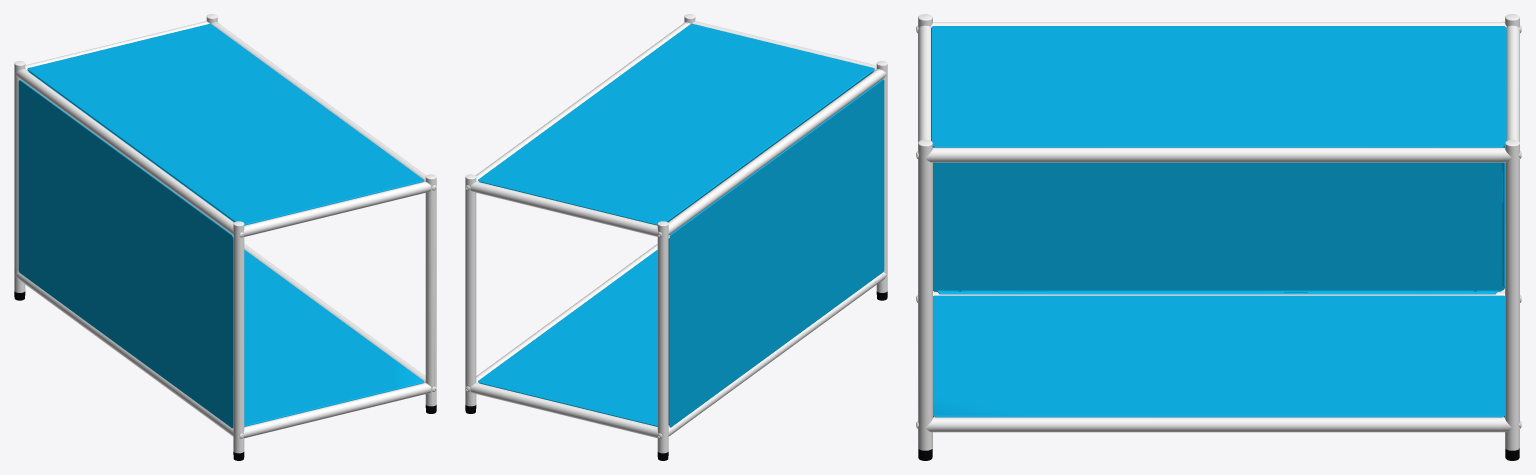
Rendered from 80x40x40-1-2-blue_optimized_optimized.glb.
3 renders of one model, left to right at view 1: azimuth 30°, elevation 25°; view 2: azimuth 150°, elevation 25°; view 3: azimuth 270°, elevation 25°, orthographic. The views are drawn at different scales.
Visible parts, largest first — view 1: 直角鐵板-80x40-5 - 零件, new-上塞-1 - 零件; view 2: 直角鐵板-80x40-5 - 零件, new-上塞-1 - 零件; view 3: 直角鐵板-80x40-5 - 零件, new-上塞-1 - 零件.
Part boxes in pixels (x1,y1,x2,y2): 直角鐵板-80x40-5 - 零件: [18, 23, 423, 428]; new-上塞-1 - 零件: [14, 14, 436, 453]; 直角鐵板-80x40-5 - 零件: [478, 23, 884, 427]; new-上塞-1 - 零件: [465, 14, 887, 453]; 直角鐵板-80x40-5 - 零件: [931, 26, 1506, 417]; new-上塞-1 - 零件: [916, 14, 1521, 450].
Size of the model in its own units: 0.3992 by 0.4453 by 0.7732.
